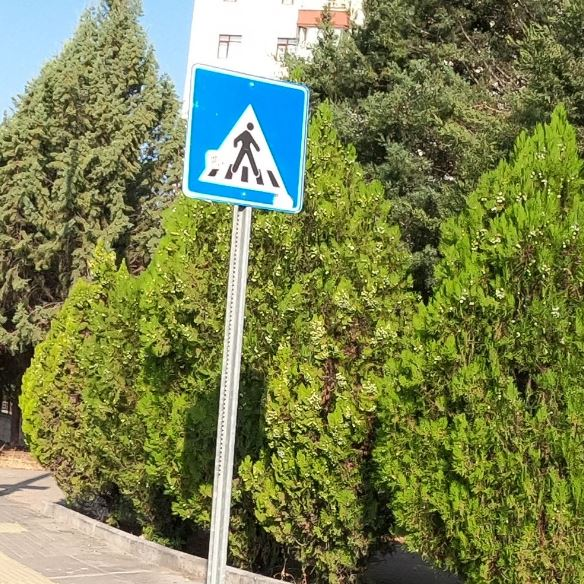Yaya Gecidi: (201, 71, 302, 204)
